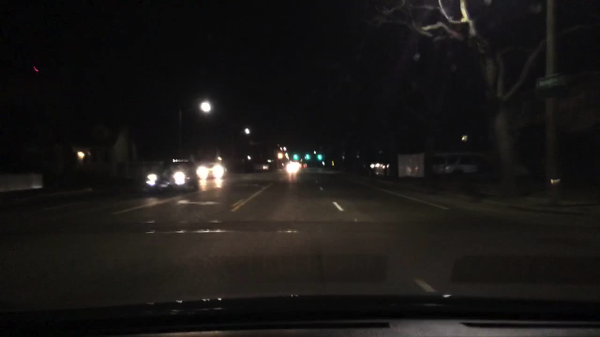car: (145, 161, 198, 194), (433, 153, 484, 176), (198, 163, 226, 181), (284, 160, 302, 174), (251, 160, 270, 171), (302, 164, 307, 168)
traffic light: (317, 154, 322, 161), (294, 156, 299, 162), (307, 154, 310, 160)
traffic sign: (535, 74, 564, 89)
